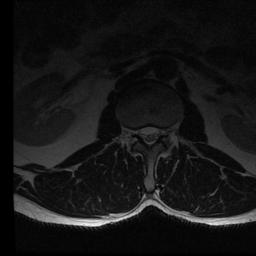CCS_normal: (145, 115, 153, 153)
LFS_normal: (161, 118, 169, 144)
LLS_normal: (153, 117, 161, 146)
RFS_stenosis: (128, 119, 137, 143)
RLS_normal: (137, 118, 145, 145)
